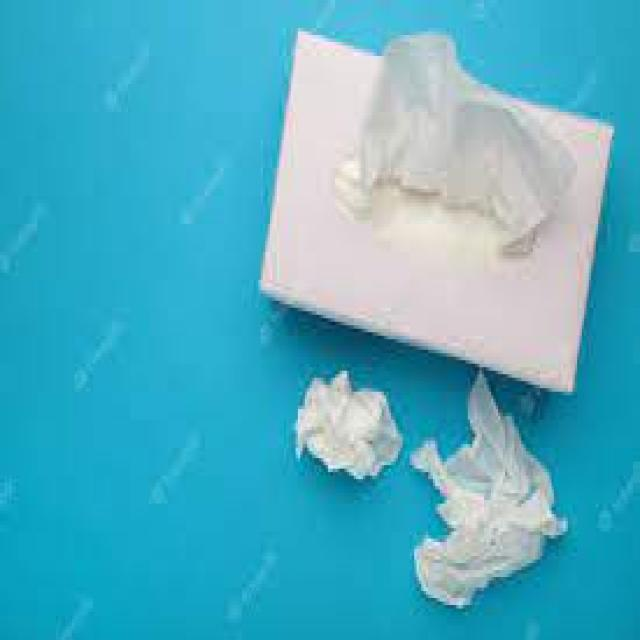tissue: (263, 35, 611, 390), (410, 372, 566, 606), (296, 370, 403, 478)
